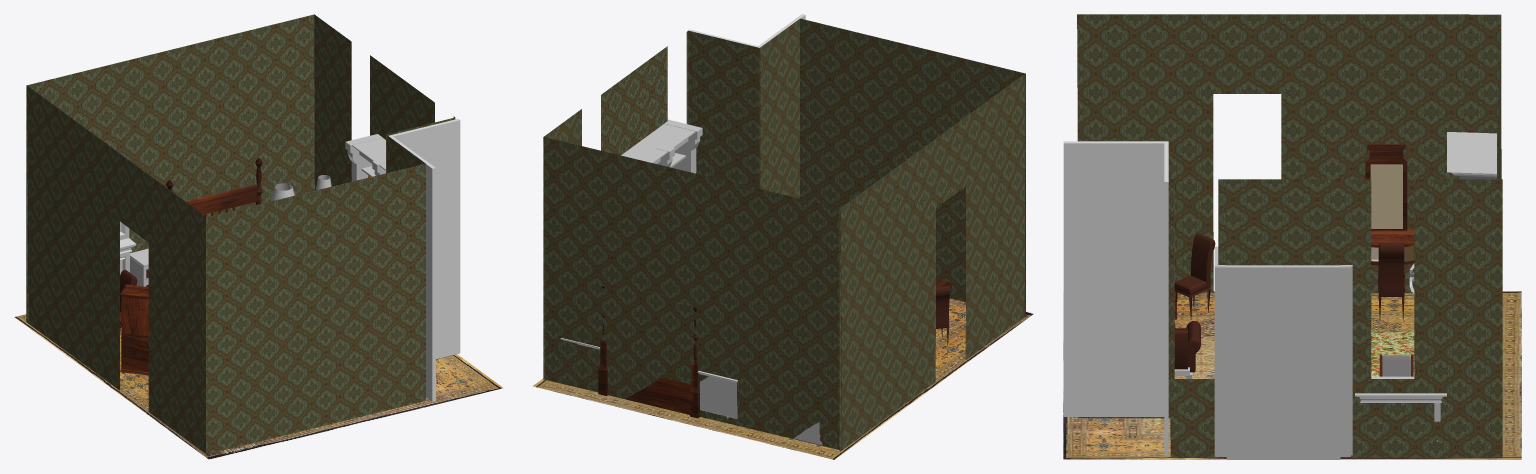
File: maid_room.fbx
3 views of the same model, side by side, from view 1: azimuth 30°, elevation 25°; view 2: azimuth 150°, elevation 25°; view 3: azimuth 270°, elevation 25° (orthographic). The views are drawn at different scales.
Visible parts, largest first — view 1: wallpp.001, secret_wall, floor, makeupdesk_side_shelf, bookshelf, bed_shelf, night_stand, wardrobe; view 2: wallpp.001, floor, bed_shelf, bookshelf, night_stand, chair_back.001; view 3: wallpp.001, secret_wall, bookshelf, floor, wardrobe, mirror, chair1_back, makeup_desk_back, sheet, desk.001, chair_back.001, side_cabinet_cover.001 (+4 smaller).
Boxes of the visible parts, left/top/right/bottom form: wallpp.001: left=26, top=14, right=455, bottom=454; secret_wall: left=388, top=119, right=460, bottom=401; floor: left=14, top=314, right=503, bottom=459; makeupdesk_side_shelf: left=120, top=284, right=148, bottom=375; bookshelf: left=345, top=134, right=385, bottom=181; bed_shelf: left=166, top=158, right=262, bottom=216; night_stand: left=130, top=248, right=148, bottom=286; wardrobe: left=120, top=221, right=136, bottom=274; wallpp.001: left=543, top=18, right=1025, bottom=451; floor: left=533, top=298, right=1034, bottom=459; bed_shelf: left=598, top=286, right=699, bottom=418; bookshelf: left=621, top=119, right=702, bottom=173; night_stand: left=560, top=338, right=737, bottom=418; chair_back.001: left=936, top=286, right=950, bottom=328; wallpp.001: left=1077, top=14, right=1502, bottom=457; secret_wall: left=1063, top=141, right=1168, bottom=455; bookshelf: left=1214, top=246, right=1352, bottom=459; floor: left=1063, top=291, right=1521, bottom=459; wardrobe: left=1447, top=132, right=1496, bottom=179; mirror: left=1370, top=164, right=1402, bottom=228; chair1_back: left=1378, top=243, right=1404, bottom=296; makeup_desk_back: left=1365, top=144, right=1407, bottom=230; sheet: left=1371, top=332, right=1414, bottom=376; desk.001: left=1355, top=376, right=1446, bottom=441; chair_back.001: left=1190, top=233, right=1215, bottom=288; side_cabinet_cover.001: left=1371, top=229, right=1414, bottom=265.
Bounding box in the file's own units: 365 × 284 × 418.
